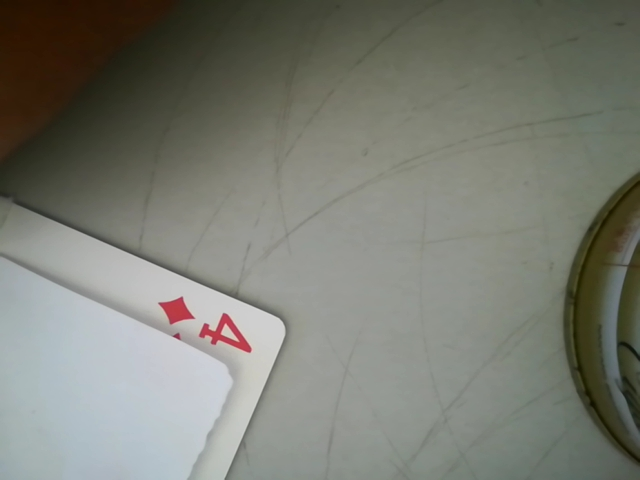fk 4: (136, 286, 275, 360)
